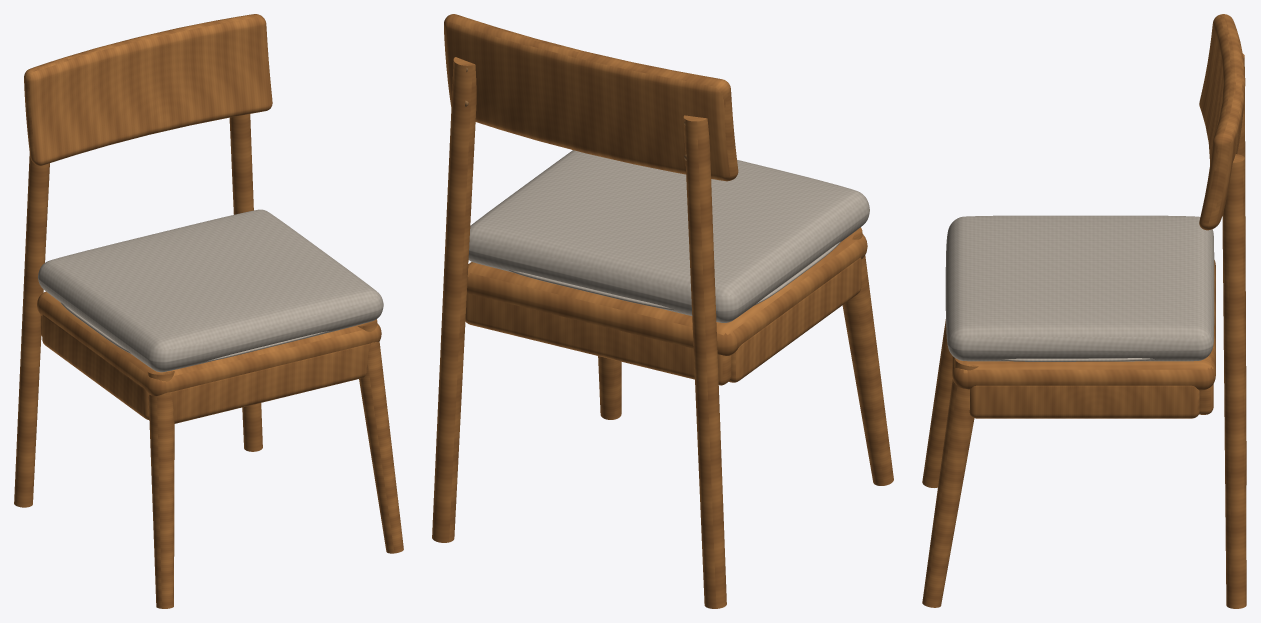
The model's file is NaturalOakDiningChair_480x505x820mm.fbx.
3 views of the same model, side by side, from view 1: azimuth 30°, elevation 25°; view 2: azimuth 150°, elevation 25°; view 3: azimuth 270°, elevation 25° (orthographic). The views are drawn at different scales.
Visible parts, largest first — view 1: DiningChair_Cushion, DiningChair_CurvedBackrest, DiningChair_WoodSeatBase, DiningChair_RearLeftPost, DiningChair_FrontRail, DiningChair_FrontLeftLeg, DiningChair_FrontRightLeg, DiningChair_LeftRail, DiningChair_RearRightPost, DiningChair_CushionPiping; view 2: DiningChair_Cushion, DiningChair_CurvedBackrest, DiningChair_RearLeftPost, DiningChair_RearRightPost, DiningChair_WoodSeatBase, DiningChair_BackRail, DiningChair_FrontLeftLeg, DiningChair_LeftRail, DiningChair_FrontRightLeg, DiningChair_CushionPiping; view 3: DiningChair_Cushion, DiningChair_RearRightPost, DiningChair_RightRail, DiningChair_WoodSeatBase, DiningChair_CurvedBackrest, DiningChair_FrontRightLeg, DiningChair_FrontLeftLeg, DiningChair_RearLeftPost, DiningChair_CushionPiping.
Boxes of the visible parts, x1,y1,x2,y2 form: DiningChair_Cushion: (38, 209, 383, 372); DiningChair_CurvedBackrest: (24, 14, 272, 165); DiningChair_WoodSeatBase: (37, 291, 381, 395); DiningChair_RearLeftPost: (14, 153, 49, 507); DiningChair_FrontRail: (161, 342, 377, 423); DiningChair_FrontLeftLeg: (147, 370, 174, 608); DiningChair_FrontRightLeg: (358, 319, 403, 553); DiningChair_LeftRail: (42, 314, 149, 419); DiningChair_RearRightPost: (229, 114, 262, 451); DiningChair_CushionPiping: (60, 302, 329, 362); DiningChair_Cushion: (468, 150, 869, 322); DiningChair_CurvedBackrest: (444, 14, 738, 181); DiningChair_RearLeftPost: (683, 115, 726, 608); DiningChair_RearRightPost: (432, 57, 476, 542); DiningChair_WoodSeatBase: (467, 232, 867, 355); DiningChair_BackRail: (465, 293, 731, 385); DiningChair_FrontLeftLeg: (842, 227, 893, 485); DiningChair_LeftRail: (728, 257, 861, 382); DiningChair_FrontRightLeg: (598, 356, 621, 419); DiningChair_CushionPiping: (508, 241, 841, 310); DiningChair_Cushion: (945, 215, 1214, 361); DiningChair_RearRightPost: (1222, 154, 1246, 608); DiningChair_RightRail: (969, 385, 1199, 418); DiningChair_WoodSeatBase: (952, 260, 1215, 390); DiningChair_CurvedBackrest: (1199, 14, 1245, 230); DiningChair_FrontRightLeg: (922, 358, 978, 607); DiningChair_FrontLeftLeg: (922, 319, 952, 487); DiningChair_RearLeftPost: (1237, 53, 1246, 484); DiningChair_CushionPiping: (1000, 358, 1155, 361).
Size of the model in its own units: 0.482 by 0.82 by 0.5108.
Materials: 3 (2 with a texture image).
